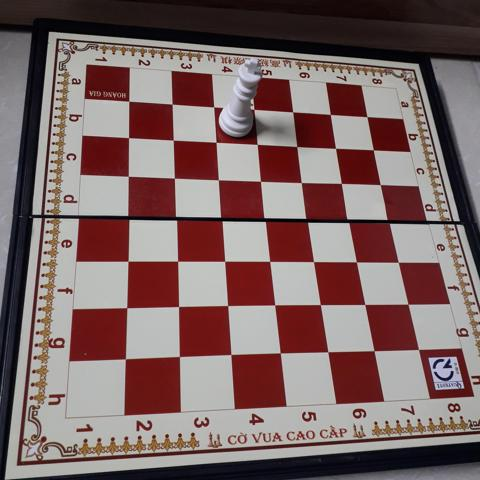xcorner: (358, 108, 375, 125), (321, 106, 338, 123), (284, 103, 301, 120), (245, 101, 262, 118), (205, 99, 222, 116), (163, 96, 180, 113), (121, 94, 138, 111), (365, 140, 382, 157), (328, 138, 345, 155), (289, 137, 306, 154), (249, 135, 266, 152), (207, 133, 224, 150), (164, 131, 181, 148), (120, 129, 137, 146), (373, 175, 390, 192), (334, 173, 351, 190), (294, 172, 311, 189), (253, 171, 270, 188), (210, 169, 227, 186), (166, 168, 183, 185), (120, 166, 137, 183), (382, 211, 399, 228), (342, 211, 359, 228), (300, 210, 317, 227), (257, 209, 274, 226), (213, 208, 230, 225), (167, 208, 184, 225), (119, 207, 136, 224), (391, 251, 408, 268), (349, 251, 366, 268), (306, 251, 323, 268), (262, 251, 279, 268), (216, 251, 233, 268), (168, 251, 185, 268), (119, 251, 136, 268), (400, 293, 417, 310), (357, 294, 374, 311), (313, 295, 330, 312), (267, 295, 284, 312), (219, 296, 236, 313), (170, 297, 187, 314), (118, 298, 135, 315), (411, 339, 428, 356), (366, 340, 383, 357), (320, 342, 337, 359), (273, 344, 290, 361), (223, 346, 240, 363), (172, 347, 189, 364), (118, 349, 135, 366)
